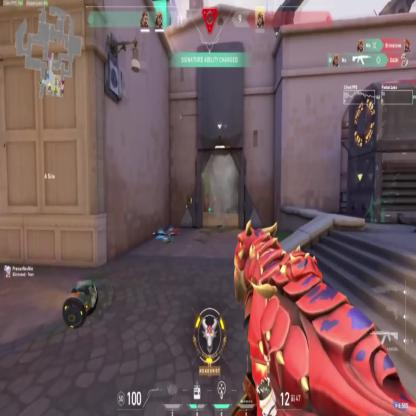enemy: (210, 189, 217, 214)
